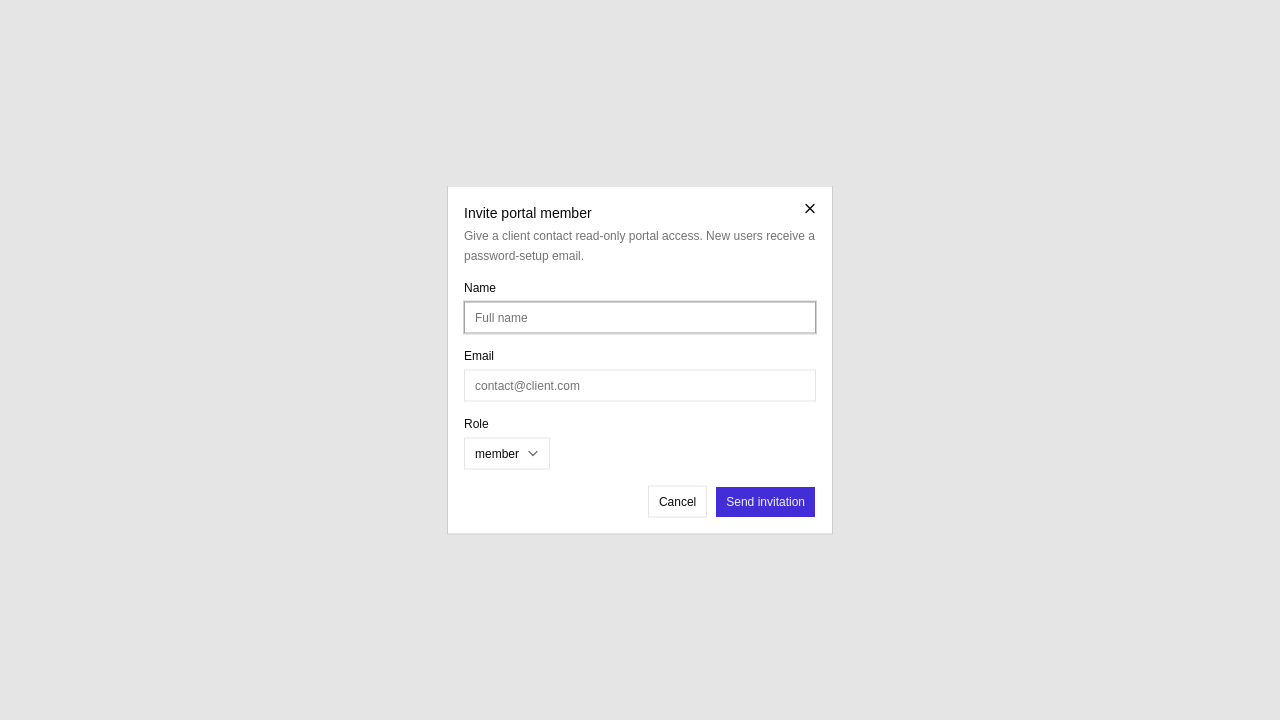
Test: InviteClientMemberDialog › maps 422 validation errors to form fields
Type "Duplicate User" into the field labelled "Name" at coordinates (640, 318), box [464,302,816,334]
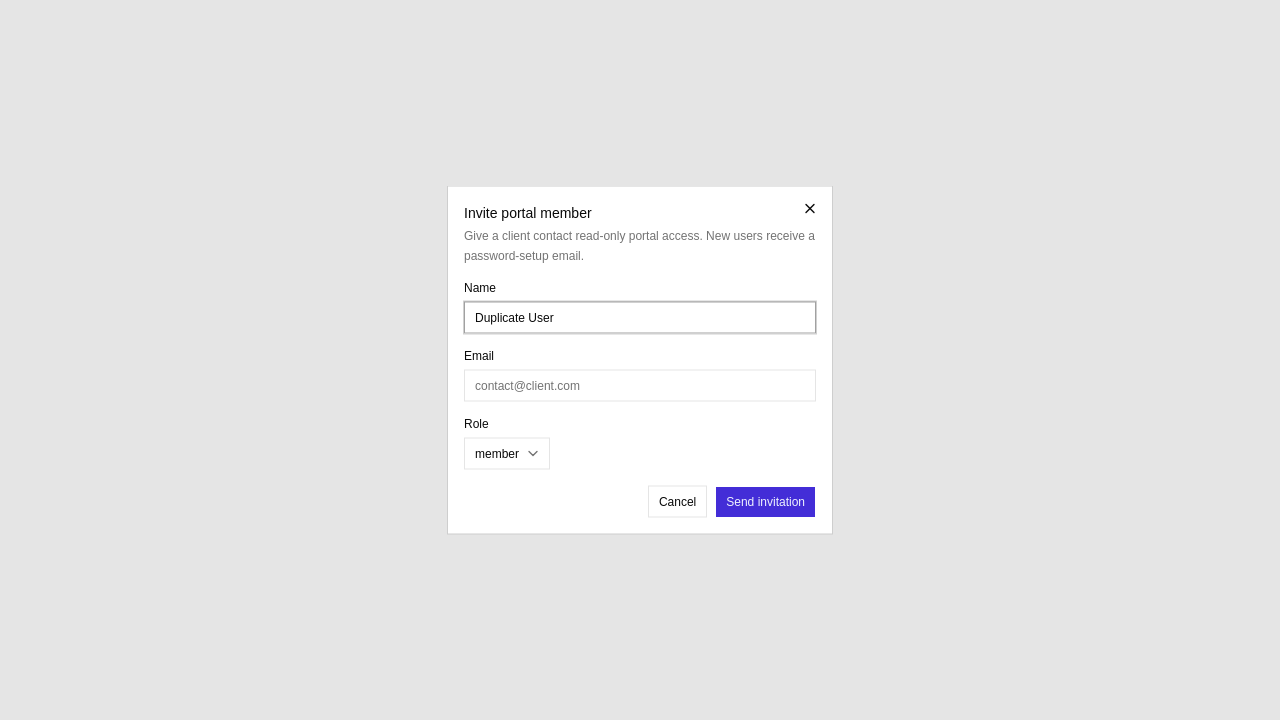
Type "duplicate@bigco.com" into the field labelled "Email" at coordinates (640, 386), box [464,370,816,402]
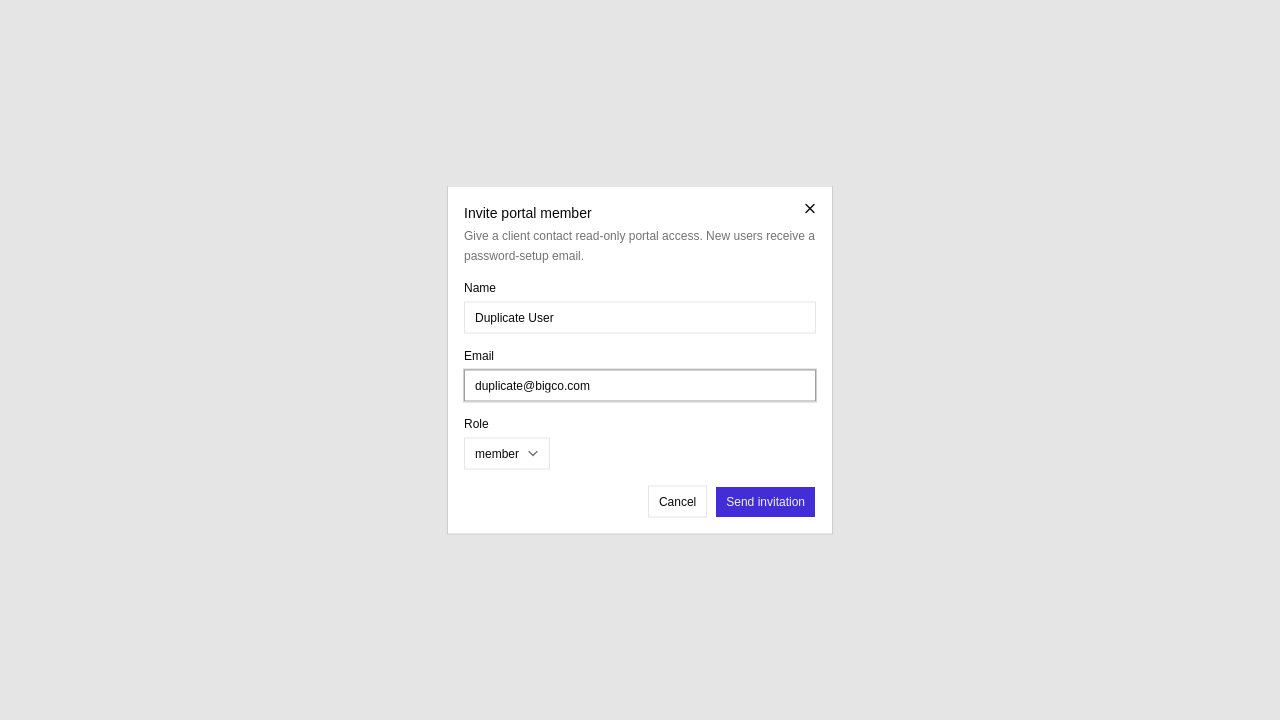
Click the button "Send invitation" at coordinates (766, 502), box [715,486,816,518]
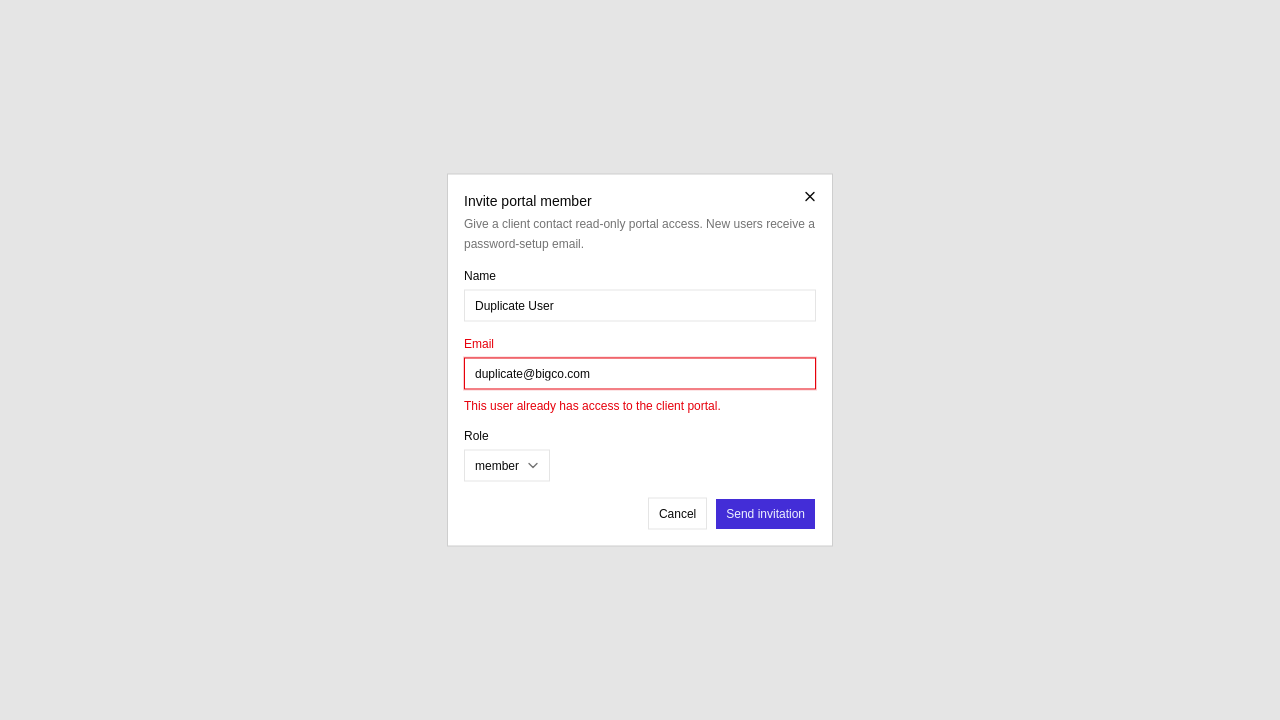
expect the text "This user already has access to the client portal." is shown: met, box [464,398,721,412]
